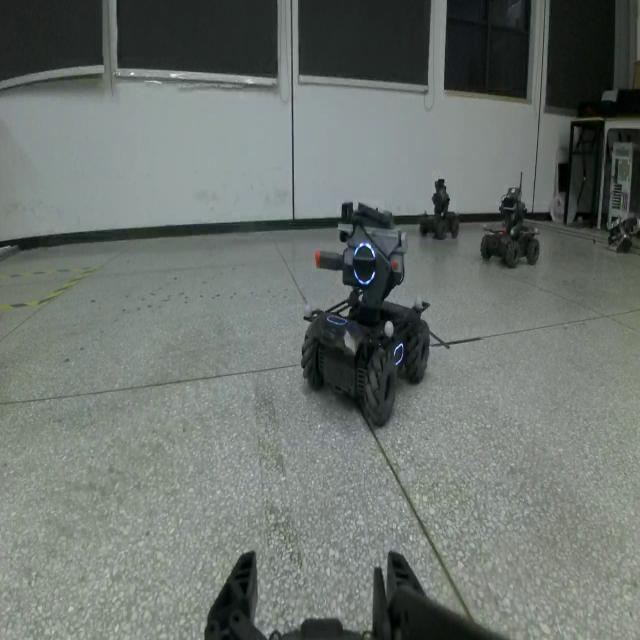s1: (296, 193, 433, 430), (477, 180, 542, 272), (420, 178, 460, 239)
